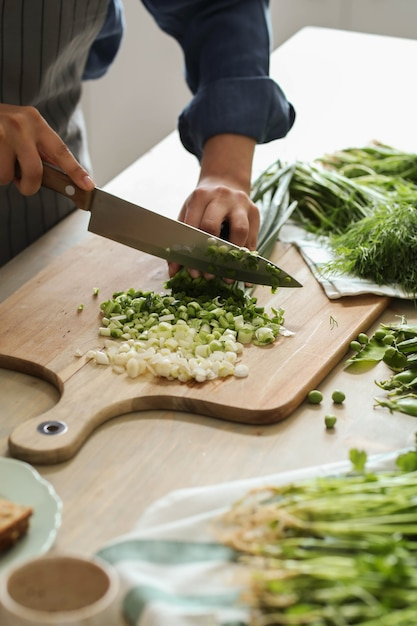knife: (86, 184, 300, 286)
